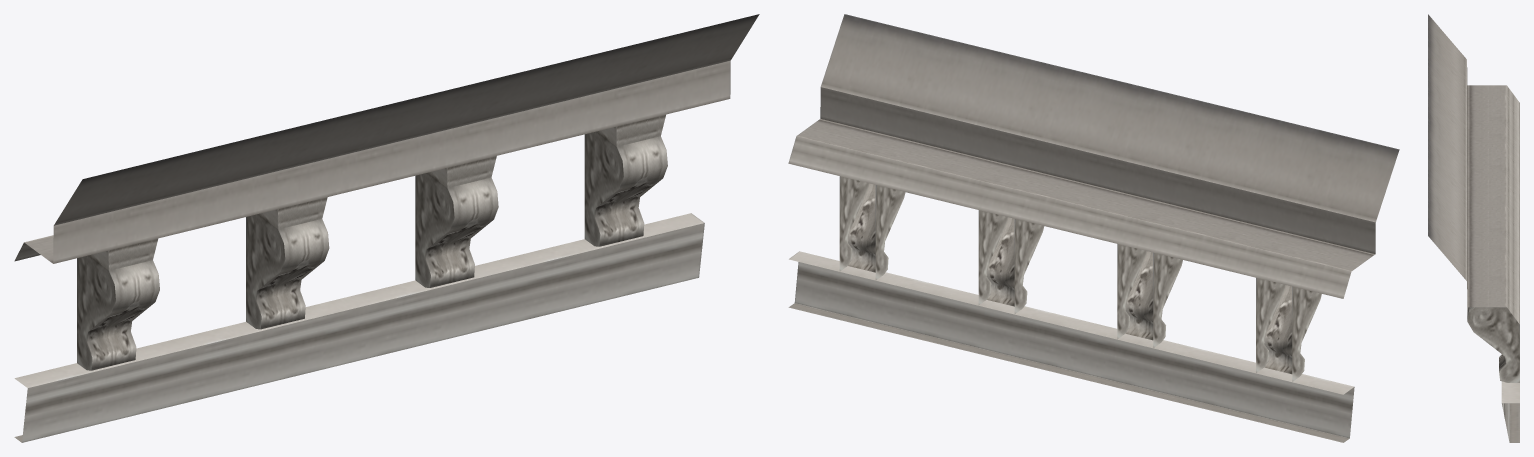
The model's file is WallRoofline1B.fbx.
3 renders of one model, left to right at view 1: azimuth 30°, elevation 25°; view 2: azimuth 150°, elevation 25°; view 3: azimuth 270°, elevation 25°, orthographic. The views are drawn at different scales.
Parts seen in each view (by area): view 1: WallRoofline1B; view 2: WallRoofline1B; view 3: WallRoofline1B.
Boxes of the visible parts, box(x1,y1,x2,y2) form: WallRoofline1B: box(14, 14, 759, 442); WallRoofline1B: box(788, 14, 1399, 442); WallRoofline1B: box(1428, 14, 1519, 442).
Bounding box in the file's own units: 200 × 86.98 × 35.
